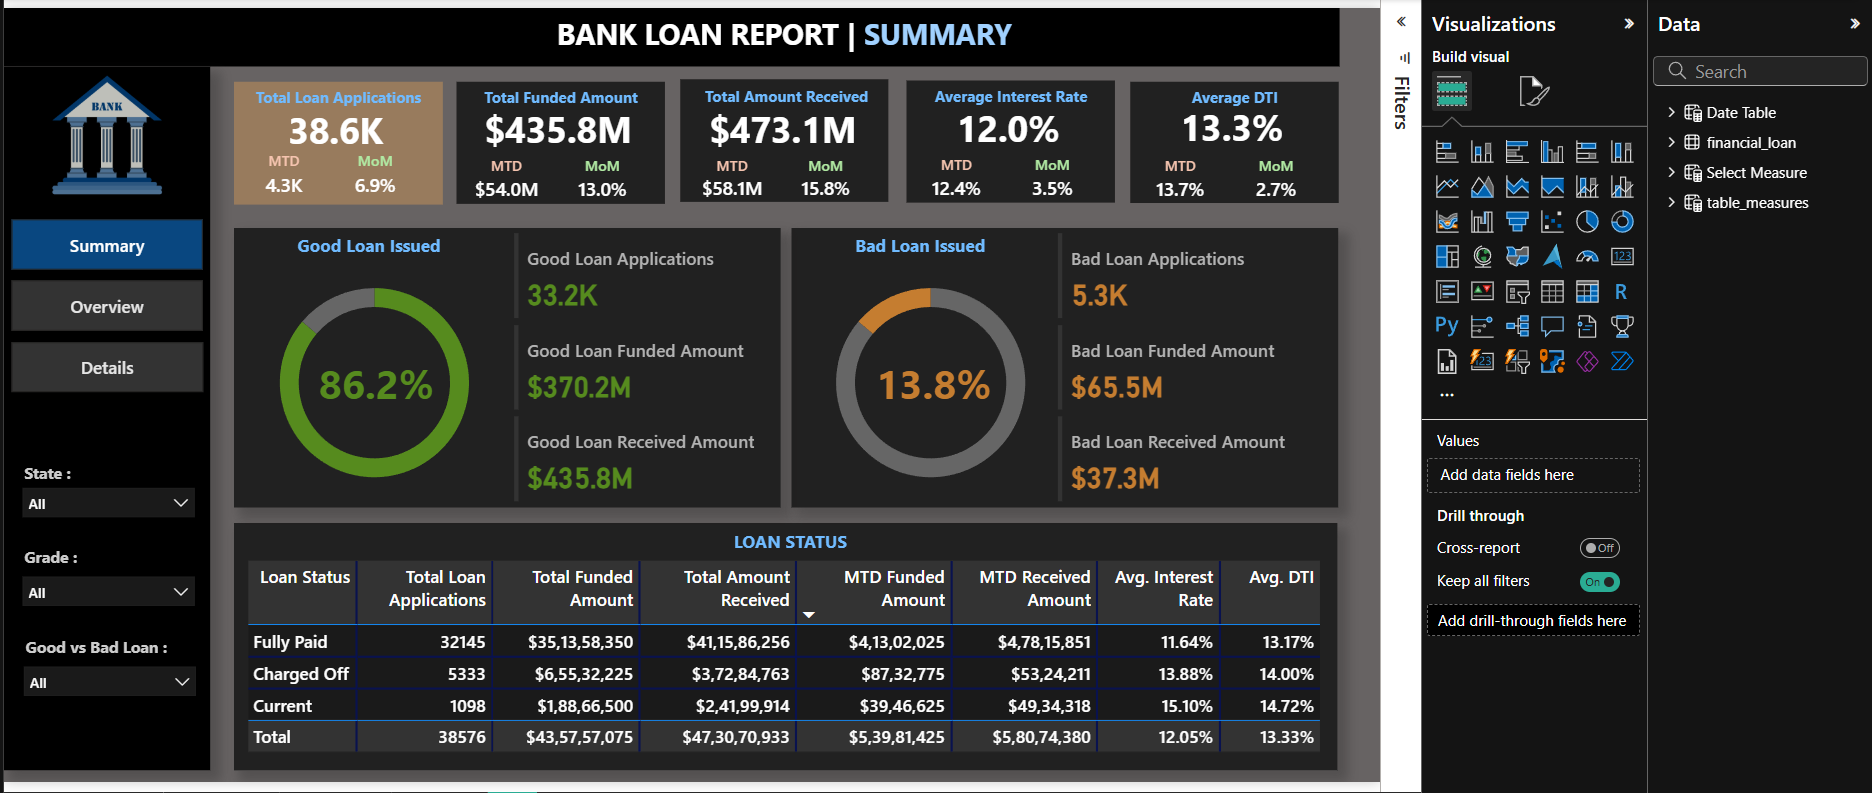

Layout of this report page (visuals, bound fields, positions):
{"tool":"powerbi","page":{"name":"Summary","canvas":[1280,720],"ordinal":0},"visuals":[{"type":"shape","box":[629.2,66.4,193.8,114.2],"z":0,"group":"g3"},{"type":"shape","box":[839.7,67.5,194.5,114],"z":0,"group":"g4"},{"type":"shape","box":[214.3,68.6,194.3,114.3],"z":0,"group":"g1"},{"type":"shape","box":[421.4,68.6,194.5,114],"z":0,"group":"g2"},{"type":"shape","box":[1047.1,68.6,194.5,113.1],"z":0,"group":"g5"},{"type":"shape","box":[214.3,204.3,508.6,260],"z":0},{"type":"card","fields":{"Values":["table_measures.avg_interest_rate"]},"box":[851.5,82.1,165.9,58.4],"z":1000,"group":"g4"},{"type":"card","fields":{"Values":["table_measures.avg_DTI"]},"box":[1058.9,83.1,165.9,57.9],"z":1000,"group":"g5"},{"type":"card","fields":{"Values":["table_measures.total_loan_appl"]},"box":[247.2,83.2,124.3,61.3],"z":1000,"group":"g1"},{"type":"card","fields":{"Values":["table_measures.total_funded_amt"]},"box":[433.2,83.2,165.9,58.4],"z":1000,"group":"g2"},{"type":"card","fields":{"Values":["table_measures.total_received_amt"]},"box":[643.2,85.3,163.1,55.8],"z":1000,"group":"g3"},{"type":"donutChart","fields":{"Category":["financial_loan.Good vs Band Loan"],"Y":["table_measures.total_loan_appl"]},"box":[220,234.3,250,230],"z":1000},{"type":"shape","box":[0,0,1242.3,54.5],"z":2000},{"type":"textbox","box":[632.2,67,191,41.6],"z":2000,"group":"g3"},{"type":"textbox","box":[839.7,67.5,194.5,38.9],"z":2000,"group":"g4"},{"type":"textbox","box":[214.3,68.6,194.3,39],"z":2000,"group":"g1"},{"type":"textbox","box":[421.4,68.6,194.5,38.9],"z":2000,"group":"g2"},{"type":"textbox","box":[1047.1,68.6,194.5,38.6],"z":2000,"group":"g5"},{"type":"shape","box":[0,54.7,191.9,654.7],"z":3000},{"type":"card","title":"MTD","fields":{"Values":["table_measures.MTD_loan_appl"]},"box":[235.7,132.7,51.4,50.2],"z":3000,"group":"g1"},{"type":"card","title":"MTD","fields":{"Values":["table_measures.MTD_interest_rate"]},"box":[851.5,136.3,70.1,48.6],"z":3000,"group":"g4"},{"type":"card","title":"MTD","fields":{"Values":["table_measures.MTD_avg_DTI"]},"box":[1058.9,136.9,70.1,48.3],"z":3000,"group":"g5"},{"type":"card","title":"MTD","fields":{"Values":["table_measures.MTD_received_amt"]},"box":[643.2,137.1,68.9,46.5],"z":3000,"group":"g3"},{"type":"card","title":"MTD","fields":{"Values":["table_measures.MTD_funded_amt"]},"box":[433.2,137.4,70.1,48.6],"z":3000,"group":"g2"},{"type":"card","title":"MoM","fields":{"Values":["table_measures.MOM_loan_appl"]},"box":[320,132.7,51.4,50.2],"z":4000,"group":"g1"},{"type":"card","title":"MoM","fields":{"Values":["table_measures.MOM_interest_rate"]},"box":[946.6,136.1,57.8,49.7],"z":4000,"group":"g4"},{"type":"card","title":"MoM","fields":{"Values":["table_measures.MOM_avg_DTI"]},"box":[1154,136.7,57.8,49.3],"z":4000,"group":"g5"},{"type":"card","title":"MoM","fields":{"Values":["table_measures.MOM_received_amt"]},"box":[736.7,136.9,56.8,47.5],"z":4000,"group":"g3"},{"type":"card","title":"MoM","fields":{"Values":["table_measures.MOM_funded_amt"]},"box":[528.3,137.2,57.8,49.7],"z":4000,"group":"g2"},{"type":"textbox","box":[13.8,417,119.7,38.5],"z":4000},{"type":"textbox","box":[235.7,204.3,207.1,34.3],"z":5000},{"type":"card","fields":{"Values":["table_measures.good_loan_per"]},"box":[287.1,321.4,118.6,57.1],"z":6000},{"type":"textbox","box":[509.2,1.4,447.3,49.5],"z":7000},{"type":"group","id":"g1","title":"Group 1","box":[214.3,68.6,194.3,114.3],"z":8000},{"type":"group","id":"g2","title":"Group 1","box":[421.4,68.6,194.3,118],"z":9000},{"type":"group","id":"g3","title":"Group 1","box":[629.2,66.4,194,118],"z":10000},{"type":"group","id":"g4","title":"Group 1","box":[839.7,67.5,194.5,118.2],"z":11000},{"type":"group","id":"g5","title":"Group 1","box":[1047.1,68.6,194.3,117.1],"z":12000},{"type":"shape","box":[732.9,204.3,508.6,260],"z":13000},{"type":"cardVisual","fields":{"Data":["table_measures.good_loan_appl","table_measures.good_loan_funded_amt","table_measures.good_loan_received_amt"]},"box":[470,204.3,252.9,260],"z":14000},{"type":"donutChart","fields":{"Category":["financial_loan.Good vs Band Loan"],"Y":["table_measures.total_loan_appl"]},"box":[737.1,234.3,250,230],"z":15000},{"type":"card","fields":{"Values":["table_measures.bad_loan_per"]},"box":[805.7,321.4,118.6,57.1],"z":16000},{"type":"textbox","box":[748.6,204.3,207.1,34.3],"z":17000},{"type":"cardVisual","fields":{"Data":["table_measures.bad_loan_appl","table_measures.bad_loan_funded_amt","table_measures.bad_loan_received_amt"]},"box":[975.7,204.3,252.9,260],"z":18000},{"type":"shape","box":[214,479.1,1026.7,230.2],"z":19000},{"type":"tableEx","fields":{"Values":["financial_loan.loan_status","table_measures.total_loan_appl","table_measures.total_funded_amt","table_measures.total_received_amt","table_measures.MTD_funded_amt","table_measures.MTD_received_amt","table_measures.avg_interest_rate","table_measures.avg_DTI"]},"box":[220.4,509.8,1008.5,200.4],"z":20000},{"type":"textbox","box":[646.8,479.8,170.3,34.5],"z":21000},{"type":"slicer","fields":{"Values":["financial_loan.address_state"]},"box":[6.9,436.3,180.3,50.9],"z":22000},{"type":"slicer","fields":{"Values":["financial_loan.grade"]},"box":[6.9,518.9,180.3,50.9],"z":23000},{"type":"textbox","box":[13.8,495.5,119.7,38.5],"z":24000},{"type":"pageNavigator","box":[6.9,196.8,178.9,163.8],"z":25000},{"type":"image","box":[2.5,39.3,187.7,157.1],"z":26000},{"type":"slicer","fields":{"Values":["financial_loan.Good vs Band Loan"]},"box":[8.3,602.8,180.3,50.9],"z":27000},{"type":"textbox","box":[15.1,579.4,163.8,38.5],"z":28000}]}

Visuals, with their boxes on the page's 1280x720 design canvas (x1, y1, x2, y2). These are canvas units, not pixel positions in the 1872x793 screenshot, which may show the page scaled, cropped or inside an application window:
shape: (629, 66, 823, 181)
shape: (840, 68, 1034, 182)
shape: (214, 69, 409, 183)
shape: (421, 69, 616, 183)
shape: (1047, 69, 1242, 182)
shape: (214, 204, 723, 464)
card - table_measures.avg_interest_rate: (852, 82, 1017, 140)
card - table_measures.avg_DTI: (1059, 83, 1225, 141)
card - table_measures.total_loan_appl: (247, 83, 372, 144)
card - table_measures.total_funded_amt: (433, 83, 599, 142)
card - table_measures.total_received_amt: (643, 85, 806, 141)
donutChart - financial_loan.Good vs Band Loan x table_measures.total_loan_appl: (220, 234, 470, 464)
shape: (0, 0, 1242, 54)
textbox: (632, 67, 823, 109)
textbox: (840, 68, 1034, 106)
textbox: (214, 69, 409, 108)
textbox: (421, 69, 616, 108)
textbox: (1047, 69, 1242, 107)
shape: (0, 55, 192, 709)
"MTD" card: (236, 133, 287, 183)
"MTD" card: (852, 136, 922, 185)
"MTD" card: (1059, 137, 1129, 185)
"MTD" card: (643, 137, 712, 184)
"MTD" card: (433, 137, 503, 186)
"MoM" card: (320, 133, 371, 183)
"MoM" card: (947, 136, 1004, 186)
"MoM" card: (1154, 137, 1212, 186)
"MoM" card: (737, 137, 794, 184)
"MoM" card: (528, 137, 586, 187)
textbox: (14, 417, 134, 456)
textbox: (236, 204, 443, 239)
card - table_measures.good_loan_per: (287, 321, 406, 378)
textbox: (509, 1, 956, 51)
"Group 1" group: (214, 69, 409, 183)
"Group 1" group: (421, 69, 616, 187)
"Group 1" group: (629, 66, 823, 184)
"Group 1" group: (840, 68, 1034, 186)
"Group 1" group: (1047, 69, 1241, 186)
shape: (733, 204, 1242, 464)
cardVisual - table_measures.good_loan_appl x table_measures.good_loan_funded_amt: (470, 204, 723, 464)
donutChart - financial_loan.Good vs Band Loan x table_measures.total_loan_appl: (737, 234, 987, 464)
card - table_measures.bad_loan_per: (806, 321, 924, 378)
textbox: (749, 204, 956, 239)
cardVisual - table_measures.bad_loan_appl x table_measures.bad_loan_funded_amt: (976, 204, 1229, 464)
shape: (214, 479, 1241, 709)
tableEx - financial_loan.loan_status x table_measures.total_loan_appl: (220, 510, 1229, 710)
textbox: (647, 480, 817, 514)
slicer - financial_loan.address_state: (7, 436, 187, 487)
slicer - financial_loan.grade: (7, 519, 187, 570)
textbox: (14, 496, 134, 534)
pageNavigator: (7, 197, 186, 361)
image: (2, 39, 190, 196)
slicer - financial_loan.Good vs Band Loan: (8, 603, 189, 654)
textbox: (15, 579, 179, 618)
